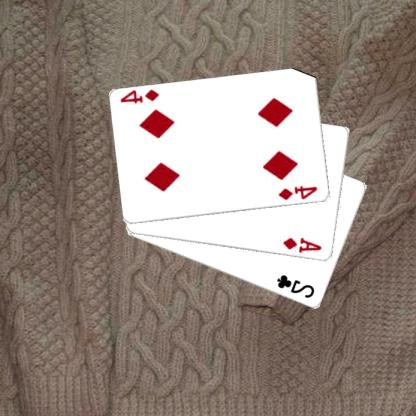2C: (276, 272, 318, 300)
4D: (278, 183, 321, 202), (120, 87, 162, 105)
AD: (282, 236, 324, 254)
